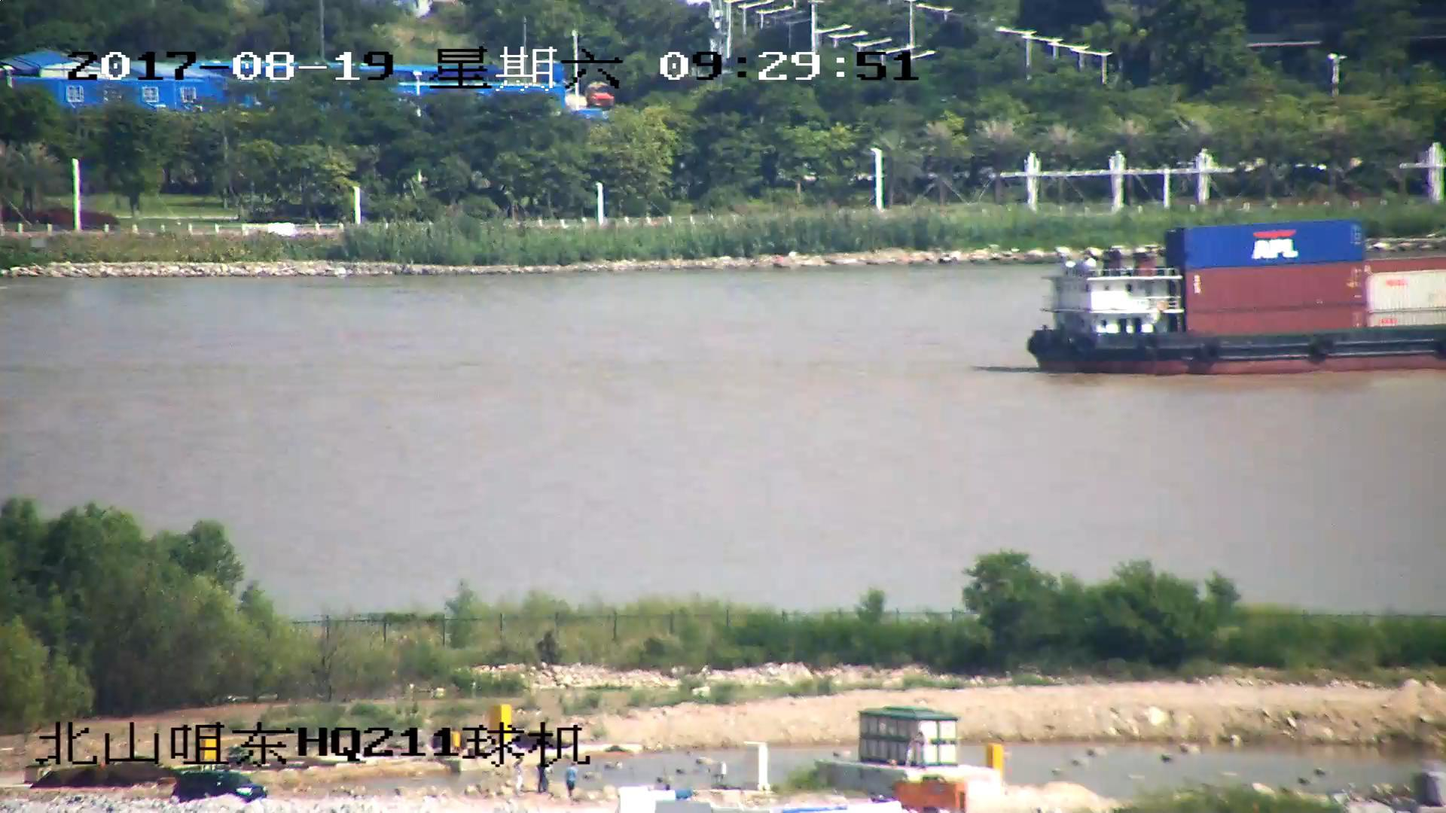container ship: (1023, 224, 1445, 377)
